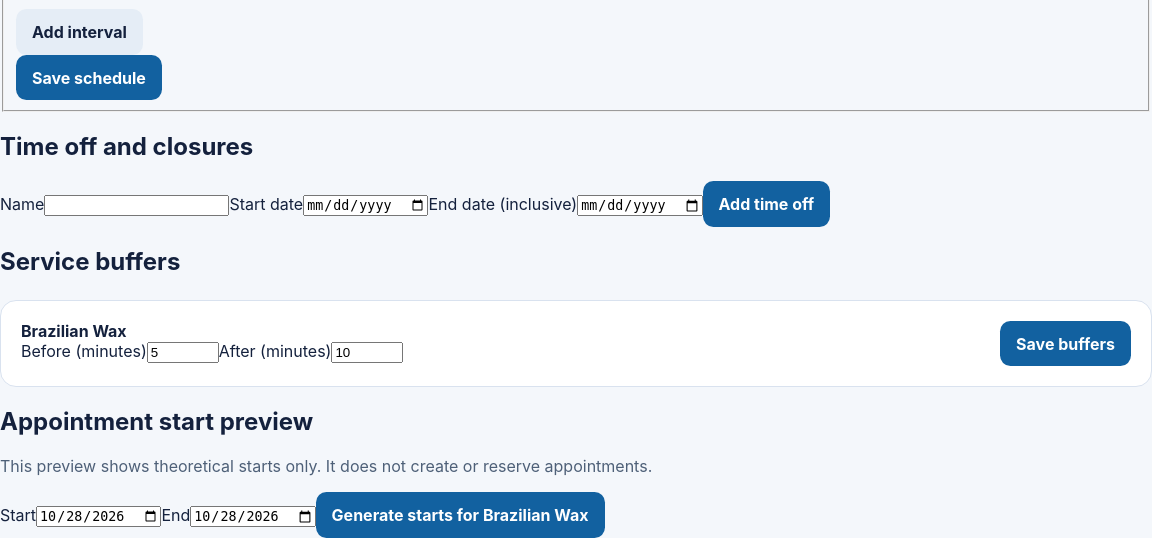
Test: scheduling start preview › renders customer time and discloses the complete blocked interval
(page scrolled)
Click the button "Generate starts for Brazilian Wax" at (460, 515), box [316,492,604,537]
(page scrolled)
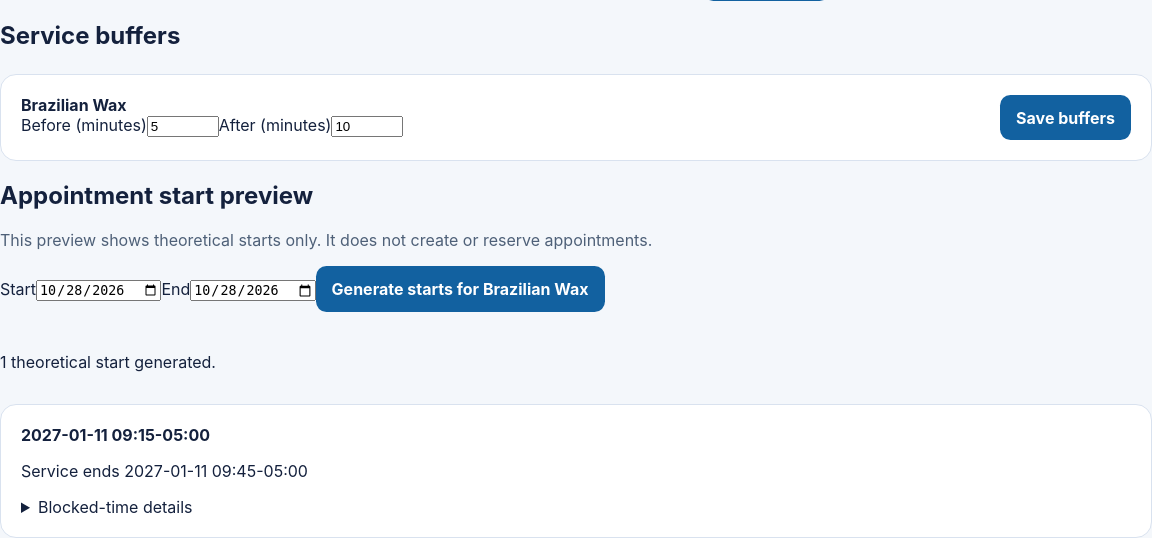
expect the message shows "1 theoretical start": met, box [0,352,216,372]
expect the text "2027-01-11 09:15-05:00" is shown: met, box [21,425,210,445]
Click the heading "Blocked-time details" at (115, 507), box [38,497,192,517]
(page scrolled)
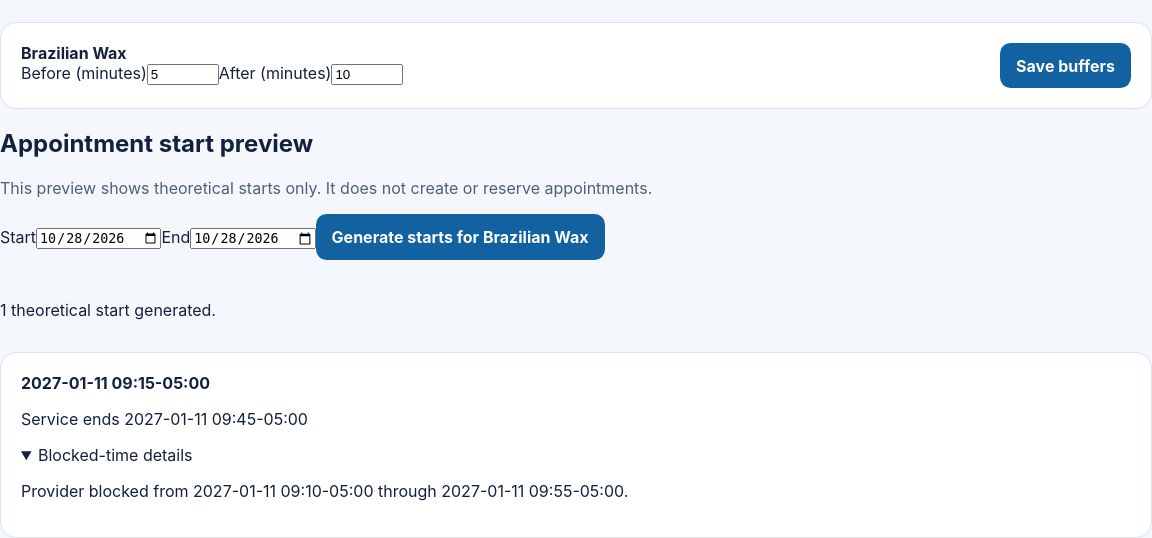
expect the text "09:10-05:00 through 2027-01-11 09:55-05:00" is shown: met, box [21,481,628,501]
